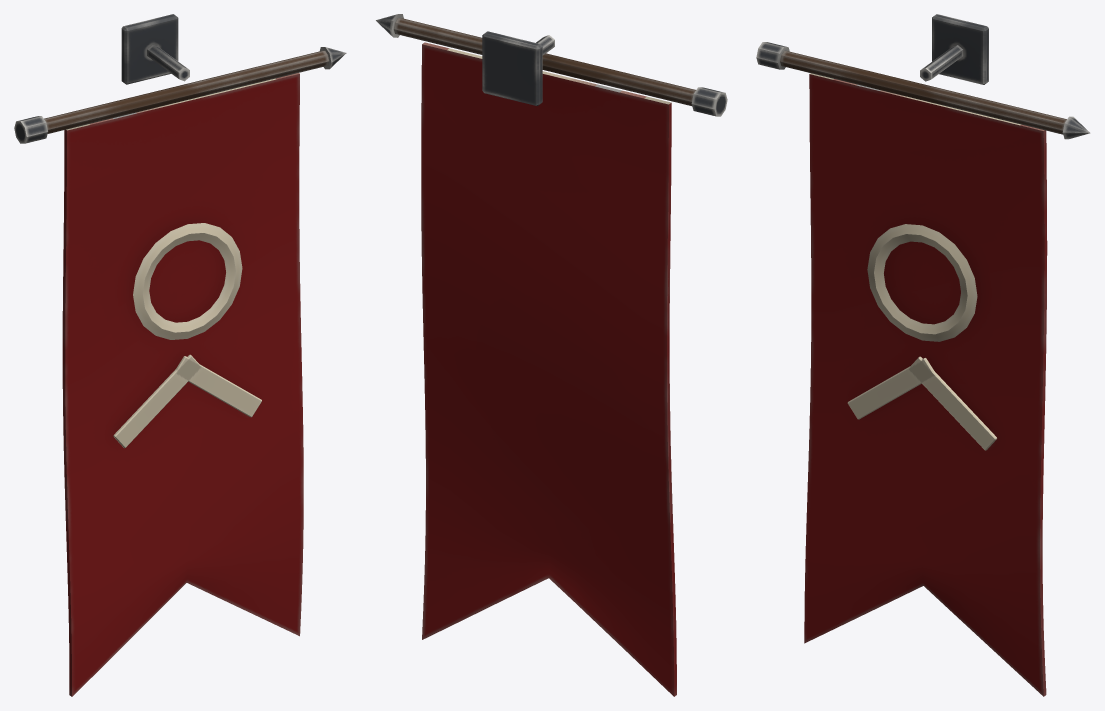
Rendered from gallows_banner_crimson.glb.
3 views of the same model, side by side, from view 1: azimuth 30°, elevation 25°; view 2: azimuth 150°, elevation 25°; view 3: azimuth 330°, elevation 25° (orthographic). The views are drawn at different scales.
Parts seen in each view (by area): view 1: gallows_banner_crimson; view 2: gallows_banner_crimson; view 3: gallows_banner_crimson.
Boxes of the visible parts, x1,y1,x2,y2 form: gallows_banner_crimson: (14, 14, 346, 696); gallows_banner_crimson: (376, 14, 727, 696); gallows_banner_crimson: (756, 14, 1090, 696).
Bounding box in the file's own units: 1.82 × 3.3 × 0.41.
1 material, 1 textured.
